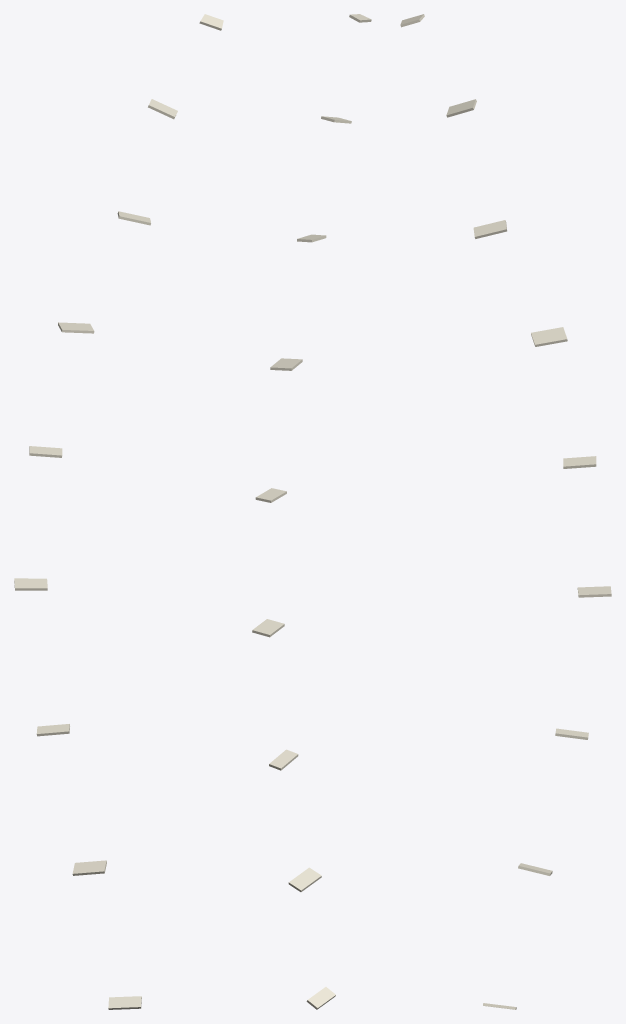
3 renders of one model, left to right at view 1: azimuth 90°, elevation 25°; view 2: azimuth 150°, elevation 25°; view 3: azimuth 270°, elevation 25°, orthographic. The views are drawn at different scales.
Visible parts, largest first — view 1: ZA_785300283e8283ac; view 2: ZA_785300283e8283ac; view 3: ZA_785300283e8283ac.
Part boxes in pixels (<box>): ZA_785300283e8283ac: <box>14,14,223,1009</box>; ZA_785300283e8283ac: <box>252,14,371,1009</box>; ZA_785300283e8283ac: <box>400,14,611,1009</box>.
Bounding box in the file's own units: 0.0075 × 0.2039 × 0.0391.
